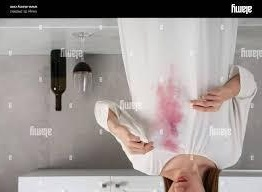wine: (154, 67, 181, 151)
